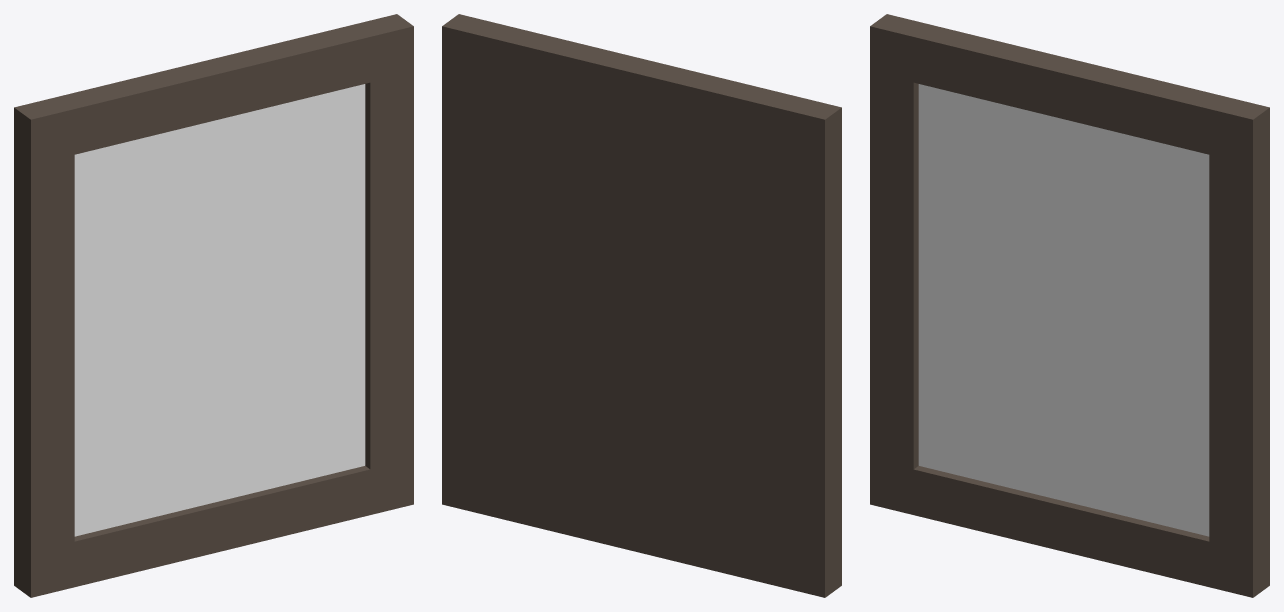
3 renders of one model, left to right at view 1: azimuth 30°, elevation 25°; view 2: azimuth 150°, elevation 25°; view 3: azimuth 330°, elevation 25°, orthographic.
Parts seen in each view (by area): view 1: frame; view 2: frame; view 3: frame.
Part boxes in pixels (x1=…): frame: x1=14, y1=14, x2=413, y2=597; frame: x1=442, y1=14, x2=841, y2=597; frame: x1=870, y1=14, x2=1269, y2=597.
Size of the model in its own units: 0.2632 by 0.314 by 0.02.
2 materials, 1 textured.
